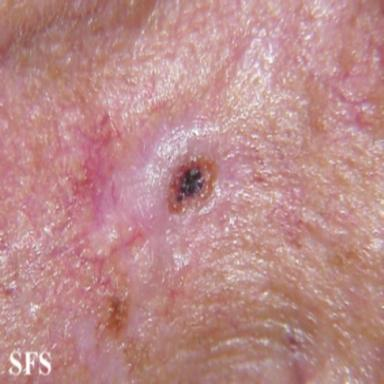basal-cell-carcinoma: (130, 110, 238, 238)
